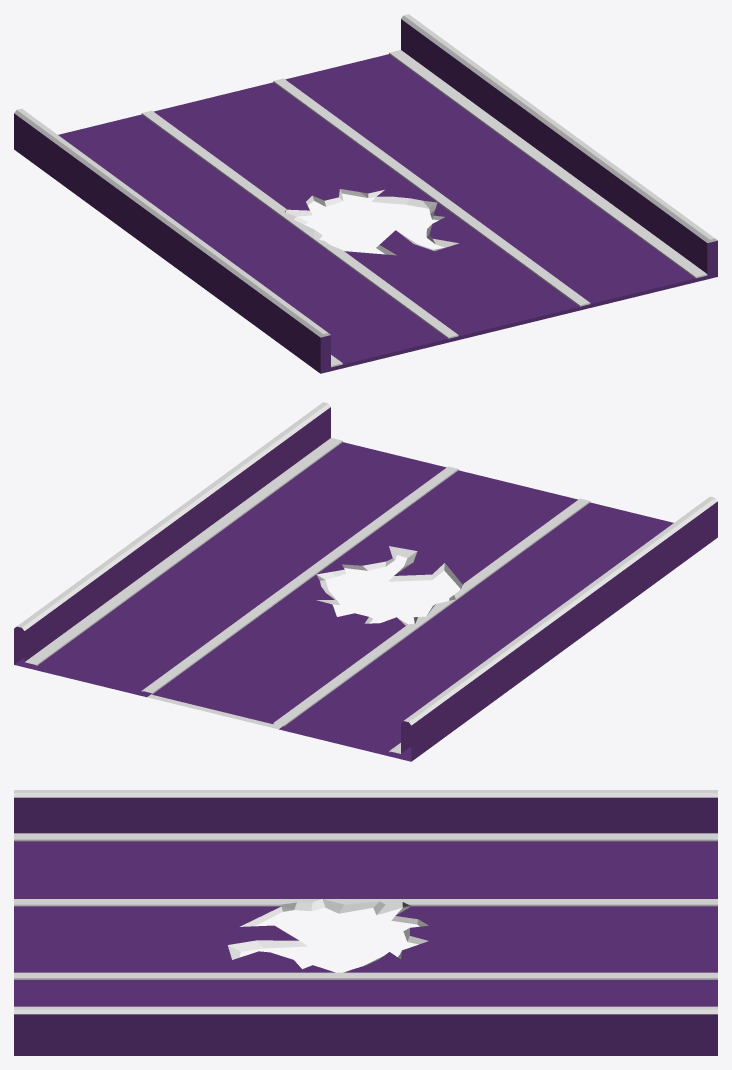
The model's file is Road_damaged_middle.fbx.
3 renders of one model, top to bottom at view 1: azimuth 30°, elevation 25°; view 2: azimuth 150°, elevation 25°; view 3: azimuth 270°, elevation 25°, orthographic. The views are drawn at different scales.
Parts seen in each view (by area): view 1: Road_damaged_middle; view 2: Road_damaged_middle; view 3: Road_damaged_middle.
Boxes of the visible parts, bbox=[...] form: Road_damaged_middle: bbox=[14, 14, 717, 373]; Road_damaged_middle: bbox=[14, 402, 717, 761]; Road_damaged_middle: bbox=[14, 790, 717, 1055].
Size of the model in its own units: 29.58 by 2.77 by 39.52.
